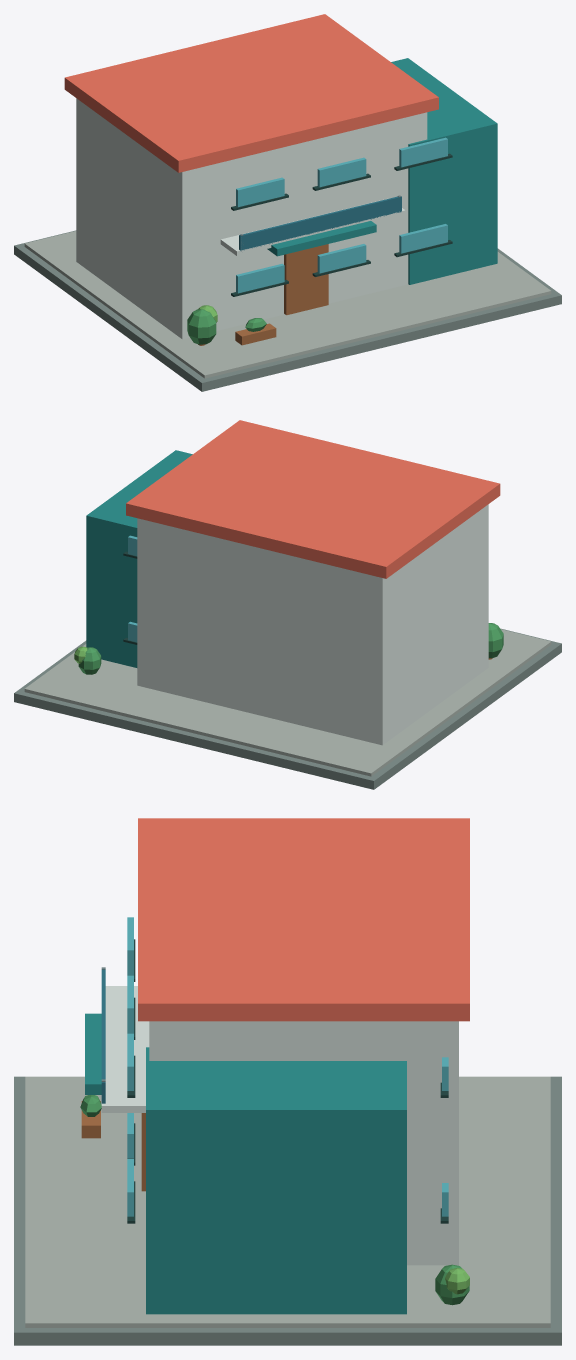
The model's file is house_lv4.glb.
The picture shows the model from 3 angles, top to bottom: view 1: azimuth 30°, elevation 25°; view 2: azimuth 150°, elevation 25°; view 3: azimuth 270°, elevation 25°; orthographic projection. The views are drawn at different scales.
Visible parts, largest first — view 1: white, coral, concrete, teal, pavement, glass, wood, glassDark, dark, green; view 2: white, coral, concrete, teal, pavement, green; view 3: teal, coral, concrete, white, pavement, glass, green, wood, dark, glassDark.
Boxes of the visible parts, x1,y1,x2,y2 form: white: [76, 98, 427, 339]; coral: [64, 14, 438, 172]; concrete: [24, 231, 551, 378]; teal: [267, 58, 497, 284]; pavement: [14, 230, 561, 391]; glass: [236, 137, 447, 293]; wood: [198, 244, 328, 345]; glassDark: [239, 196, 401, 250]; dark: [231, 153, 452, 296]; green: [187, 309, 266, 344]; white: [137, 504, 488, 745]; coral: [126, 420, 500, 578]; concrete: [24, 629, 551, 776]; teal: [86, 450, 192, 667]; pavement: [14, 628, 561, 789]; green: [78, 623, 503, 674]; teal: [85, 1013, 406, 1314]; coral: [138, 818, 469, 1021]; concrete: [25, 1076, 550, 1327]; white: [101, 986, 458, 1265]; pavement: [14, 1076, 561, 1345]; glass: [127, 917, 448, 1216]; green: [80, 1095, 469, 1305]; wood: [81, 1101, 145, 1191]; dark: [127, 939, 448, 1223]; glassDark: [101, 969, 105, 1103].
Bounding box in the file's own units: 9.4 × 4.87 × 8.5.
